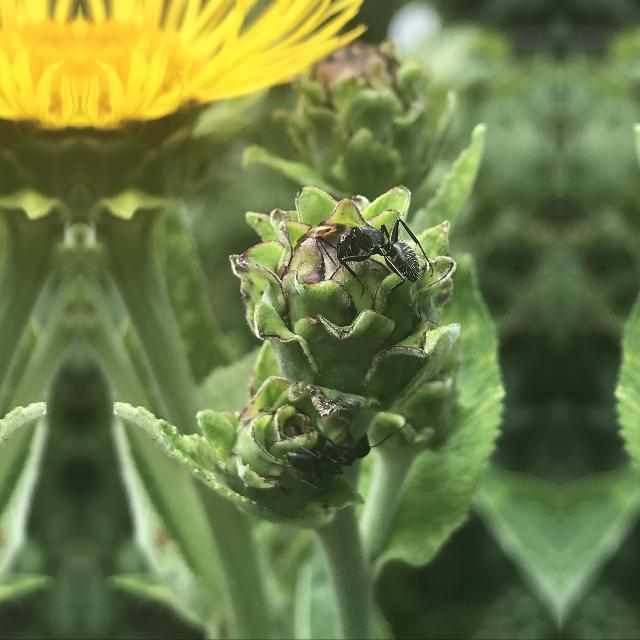Camponotus: (327, 200, 435, 298)
